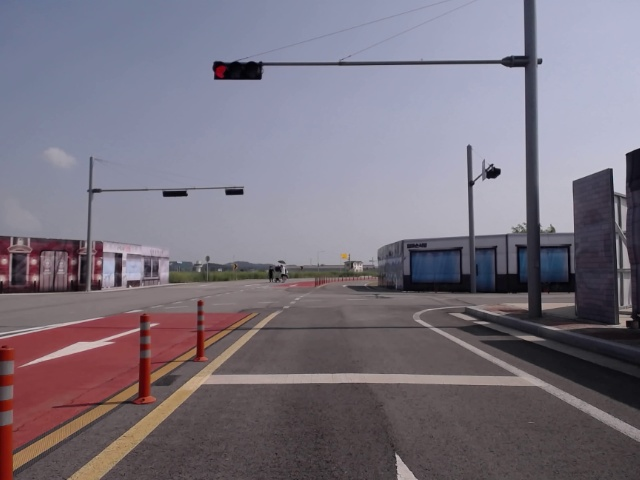red_3: (213, 62, 262, 80)
